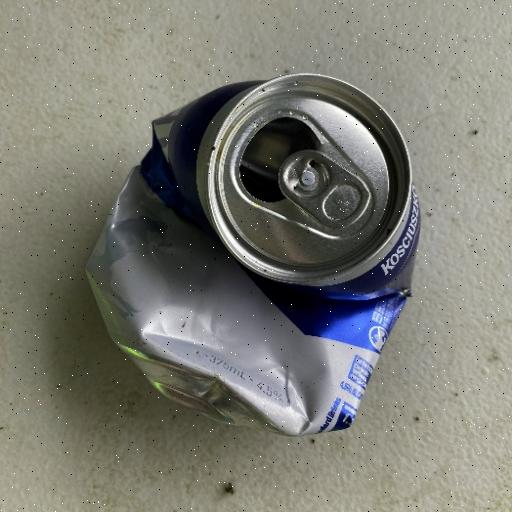Metal: (83, 70, 423, 438)
